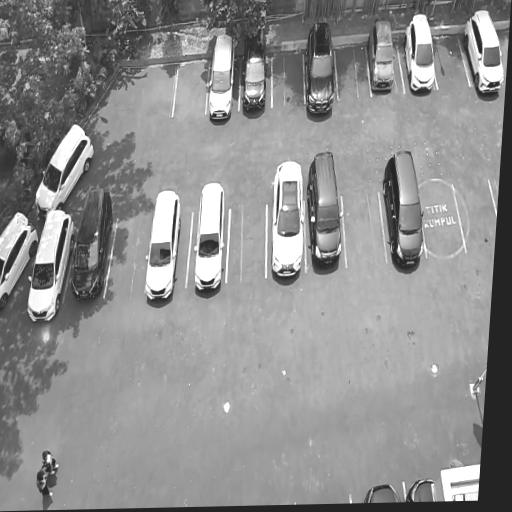Car: (27, 112, 99, 220), (20, 208, 78, 324), (300, 143, 352, 271), (265, 152, 316, 281), (140, 180, 186, 312), (379, 143, 426, 269), (68, 186, 117, 303), (188, 173, 233, 299), (297, 15, 342, 121), (0, 204, 42, 317), (461, 3, 507, 98), (237, 16, 277, 123), (206, 23, 241, 128), (401, 10, 438, 96), (366, 12, 397, 94), (362, 477, 401, 503), (403, 474, 438, 502)
Space Available: (105, 217, 152, 300), (419, 186, 466, 257), (342, 194, 385, 269), (453, 180, 497, 252), (227, 204, 266, 282), (174, 57, 210, 116), (335, 42, 372, 97), (432, 32, 469, 87), (272, 51, 305, 106)
